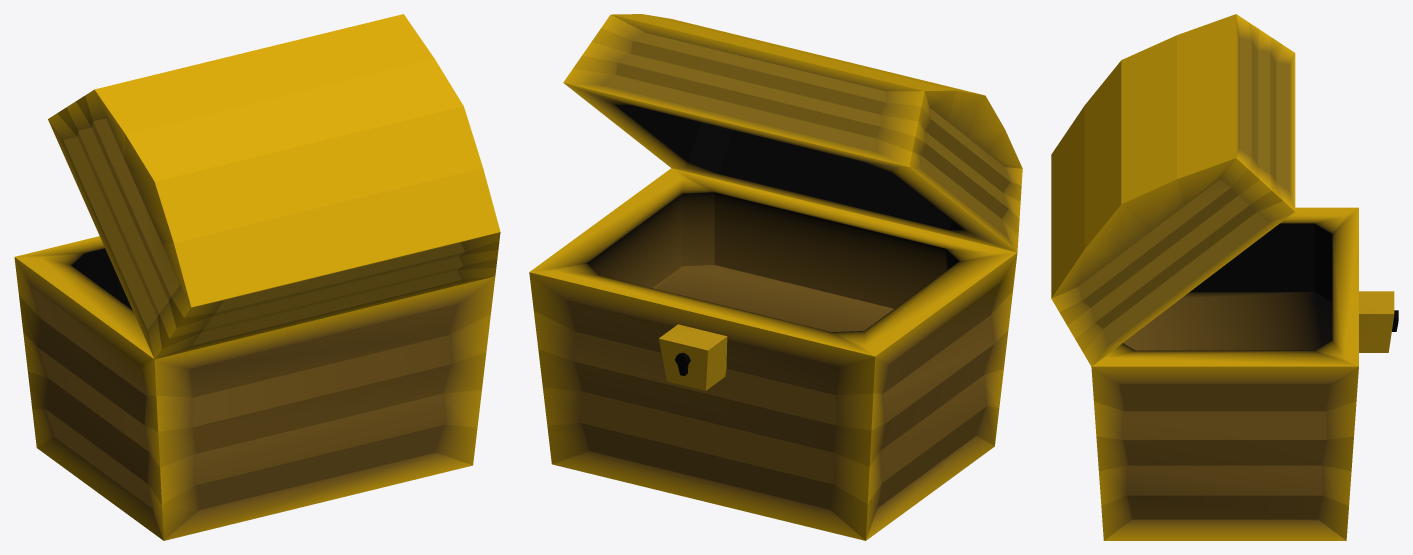
Rendered from Chest.glb.
3 renders of one model, left to right at view 1: azimuth 30°, elevation 25°; view 2: azimuth 150°, elevation 25°; view 3: azimuth 270°, elevation 25°, orthographic. The views are drawn at different scales.
Visible parts, largest first — view 1: Cube.002, Cube; view 2: Cube, Cube.002, Cube.001; view 3: Cube, Cube.002, Cube.001.
Boxes of the visible parts, bbox=[...] form: Cube.002: bbox=[48, 14, 500, 359]; Cube: bbox=[14, 236, 495, 540]; Cube: bbox=[529, 168, 1017, 540]; Cube.002: bbox=[563, 14, 1022, 252]; Cube.001: bbox=[658, 324, 727, 390]; Cube: bbox=[1091, 207, 1358, 540]; Cube.002: bbox=[1051, 14, 1295, 366]; Cube.001: bbox=[1359, 291, 1394, 352].
Size of the model in its own units: 0.7372 by 0.8283 by 0.6809.
